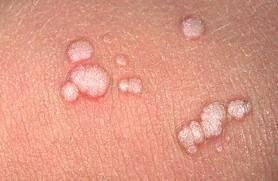flat_wart: (56, 30, 151, 110), (161, 90, 262, 157), (163, 9, 226, 51)
